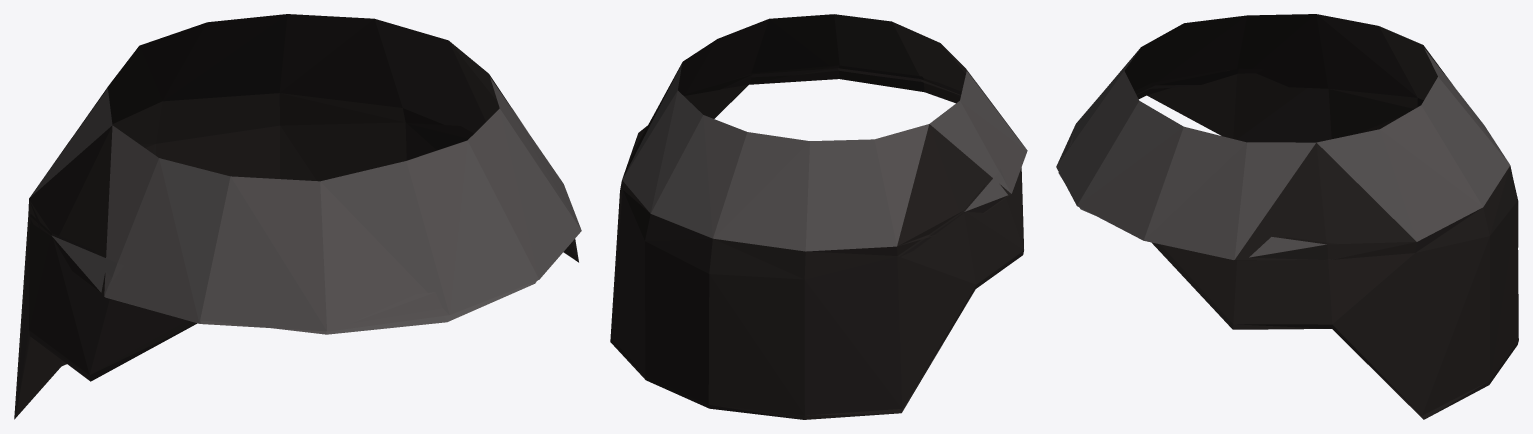
File: hair_twin_buns_01_hatcut.glb
The picture shows the model from 3 angles, left to right: view 1: azimuth 30°, elevation 25°; view 2: azimuth 150°, elevation 25°; view 3: azimuth 270°, elevation 25°; orthographic projection. The views are drawn at different scales.
Parts seen in each view (by area): view 1: hair_twin_buns_01_hatcut; view 2: hair_twin_buns_01_hatcut; view 3: hair_twin_buns_01_hatcut.
Part boxes in pixels (bbox=[...]): hair_twin_buns_01_hatcut: bbox=[14, 14, 581, 419]; hair_twin_buns_01_hatcut: bbox=[610, 14, 1027, 419]; hair_twin_buns_01_hatcut: bbox=[1056, 14, 1518, 419].
Size of the model in its own units: 0.2627 by 0.179 by 0.2732.
1 material, 1 textured.
